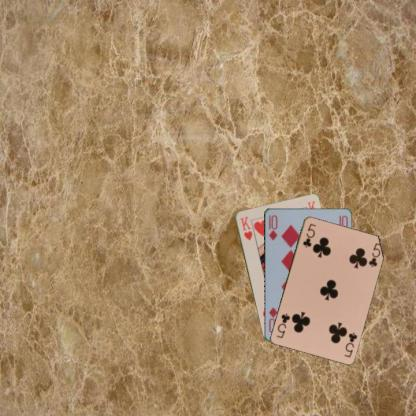10d: (266, 212, 278, 242)
5c: (342, 329, 358, 358), (300, 221, 317, 248)
Kh: (238, 214, 253, 241)
